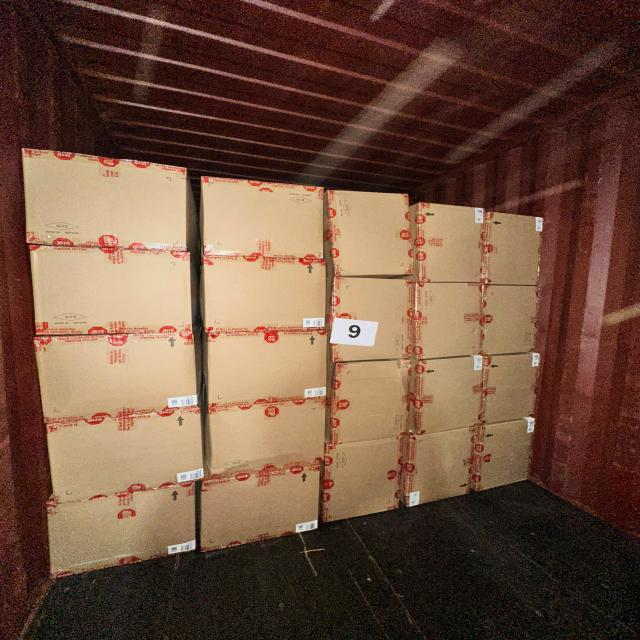Carton: (19, 147, 189, 255), (41, 405, 212, 507), (26, 331, 203, 426), (44, 476, 199, 582), (31, 244, 195, 334), (196, 461, 321, 555), (203, 394, 334, 482), (200, 180, 322, 263), (203, 255, 329, 333), (203, 330, 327, 406), (328, 280, 414, 366), (328, 193, 410, 282), (324, 439, 406, 524), (329, 359, 409, 445), (400, 423, 480, 509), (411, 203, 483, 288), (407, 355, 481, 434), (414, 281, 480, 359), (474, 417, 534, 493), (482, 284, 544, 356), (484, 212, 541, 290), (481, 352, 539, 424)
